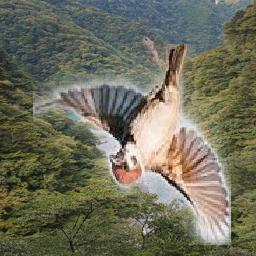Sparrow: (33, 45, 231, 246)
